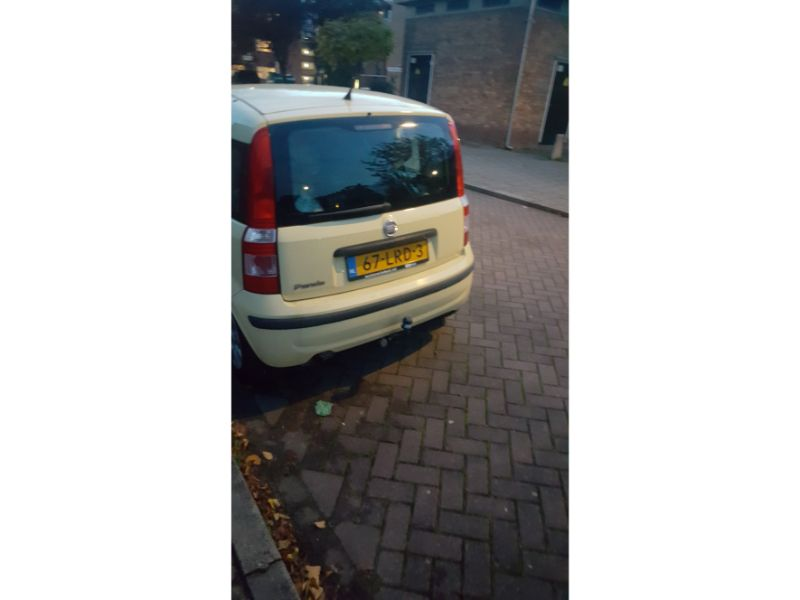kenteken: (345, 232, 428, 279)
